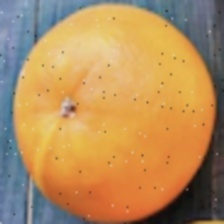orange: (17, 44, 181, 203)
